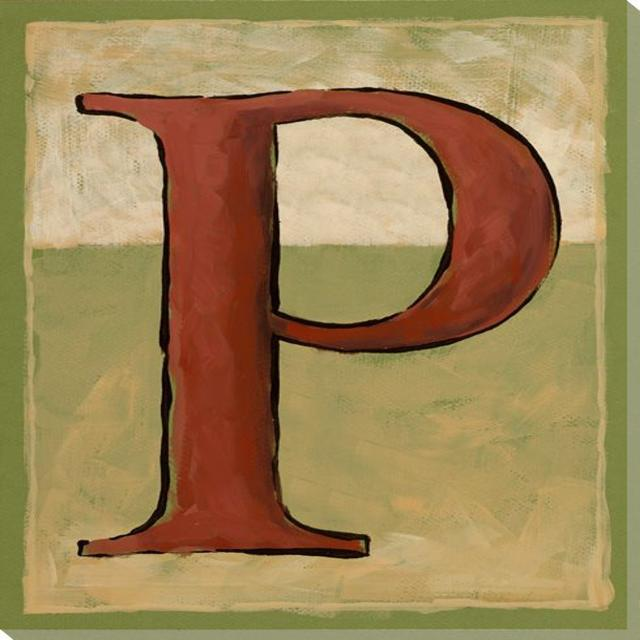P: (48, 55, 576, 572)
